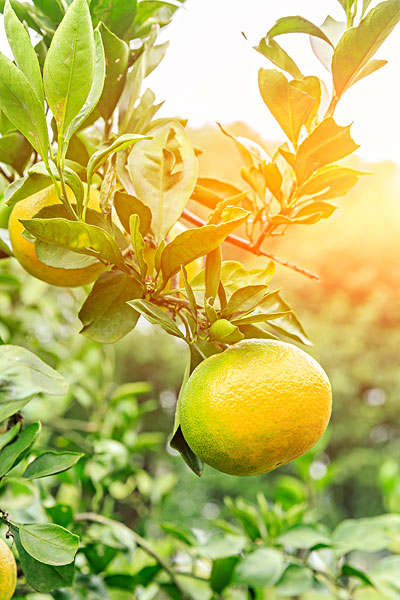orange: (176, 337, 334, 477)
